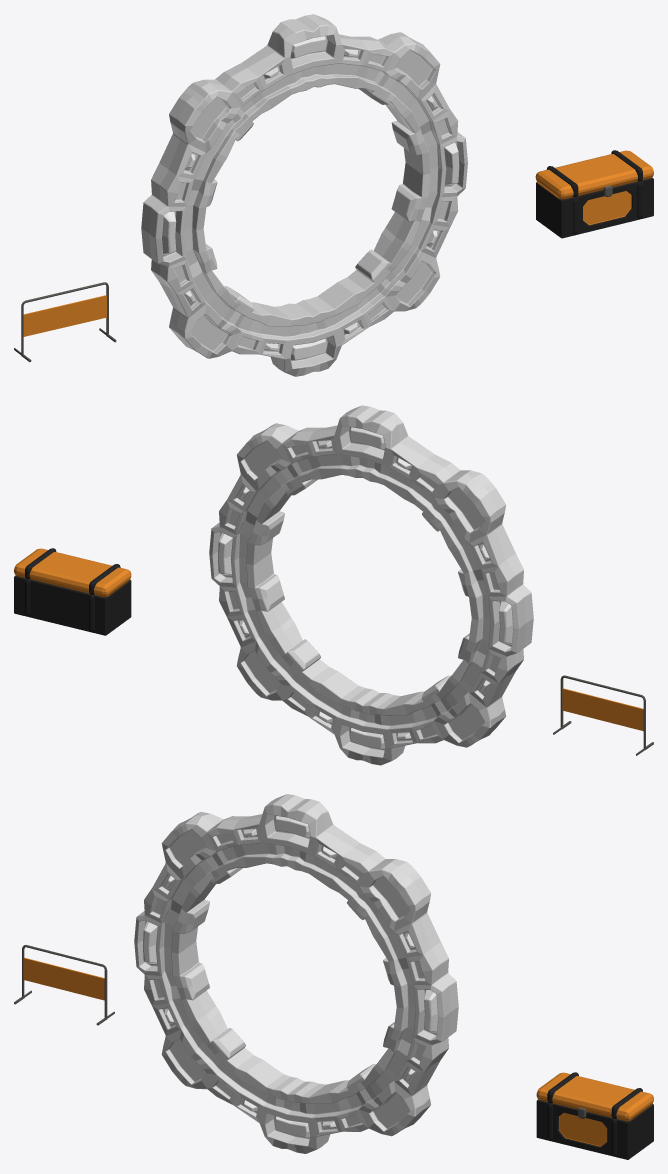
The model's file is props-main-island.fbx.
3 renders of one model, top to bottom at view 1: azimuth 30°, elevation 25°; view 2: azimuth 150°, elevation 25°; view 3: azimuth 330°, elevation 25°, orthographic.
Parts seen in each view (by area): view 1: Circle, Cube.009, Cube.007, OGRADA.004; view 2: Circle, Cube.009, Cube.007, OGRADA.004; view 3: Circle, Cube.009, Cube.007, OGRADA.004.
Boxes of the visible parts, x1,y1,x2,y2 form: Circle: (141,14,467,376); Cube.009: (536,177,653,238); Cube.007: (535,150,653,199); OGRADA.004: (14,282,116,362); Circle: (209,405,533,765); Cube.009: (14,575,131,635); Cube.007: (14,548,131,596); OGRADA.004: (553,675,653,755); Circle: (134,794,458,1153); Cube.009: (536,1099,653,1159); Cube.007: (536,1072,653,1121); OGRADA.004: (14,945,114,1025).
Bounding box in the file's own units: 1324 × 702 × 108.
